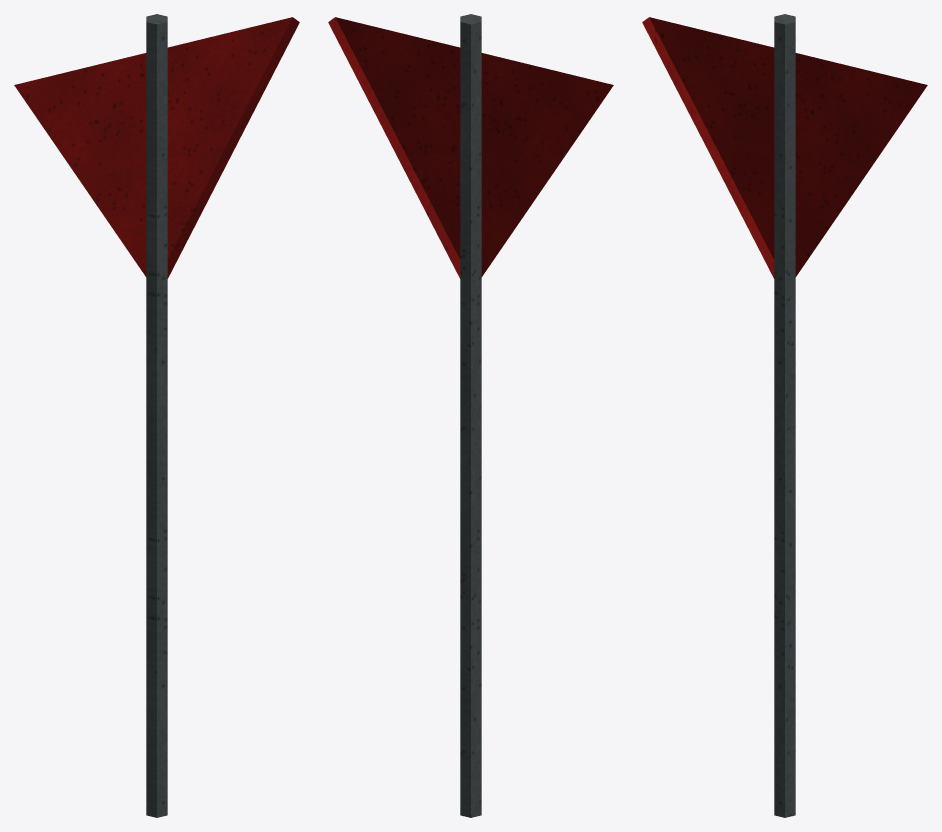
Rendered from PROP-773118451561_lod2.glb.
3 views of the same model, side by side, from view 1: azimuth 30°, elevation 25°; view 2: azimuth 150°, elevation 25°; view 3: azimuth 330°, elevation 25° (orthographic).
Parts seen in each view (by area): view 1: shaped_sign_plate.011, sign_post.033; view 2: shaped_sign_plate.011, sign_post.033; view 3: shaped_sign_plate.011, sign_post.033.
Part boxes in pixels (<box>): shaped_sign_plate.011: <box>14,17,299,278</box>; sign_post.033: <box>146,14,167,817</box>; shaped_sign_plate.011: <box>328,17,613,278</box>; sign_post.033: <box>460,14,481,817</box>; shaped_sign_plate.011: <box>642,17,927,278</box>; sign_post.033: <box>774,14,795,817</box>.
Size of the model in its own units: 0.9007 by 2.45 by 0.0606.
2 materials, 2 textured.
